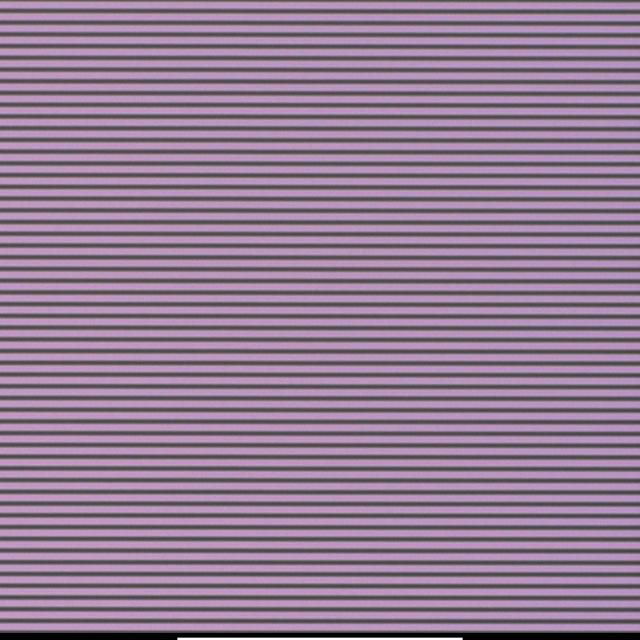nonvisual: (310, 286, 316, 298)
